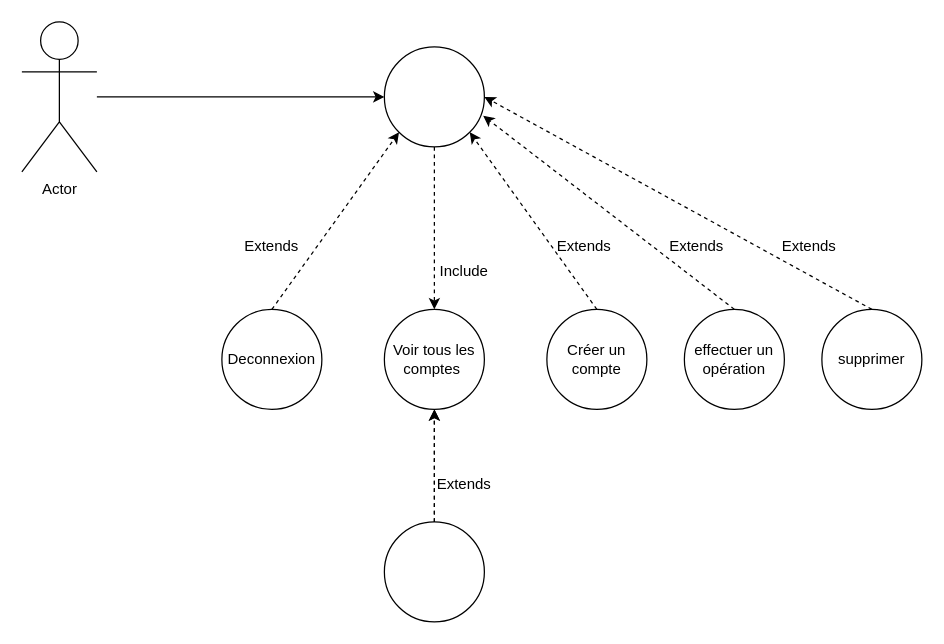
Image size: 944x644. Some labels were removed from this diagram. Each missing label, with the centre of its shape:
Connexion: point 433,96
Voir un seul compte: point 433,571
